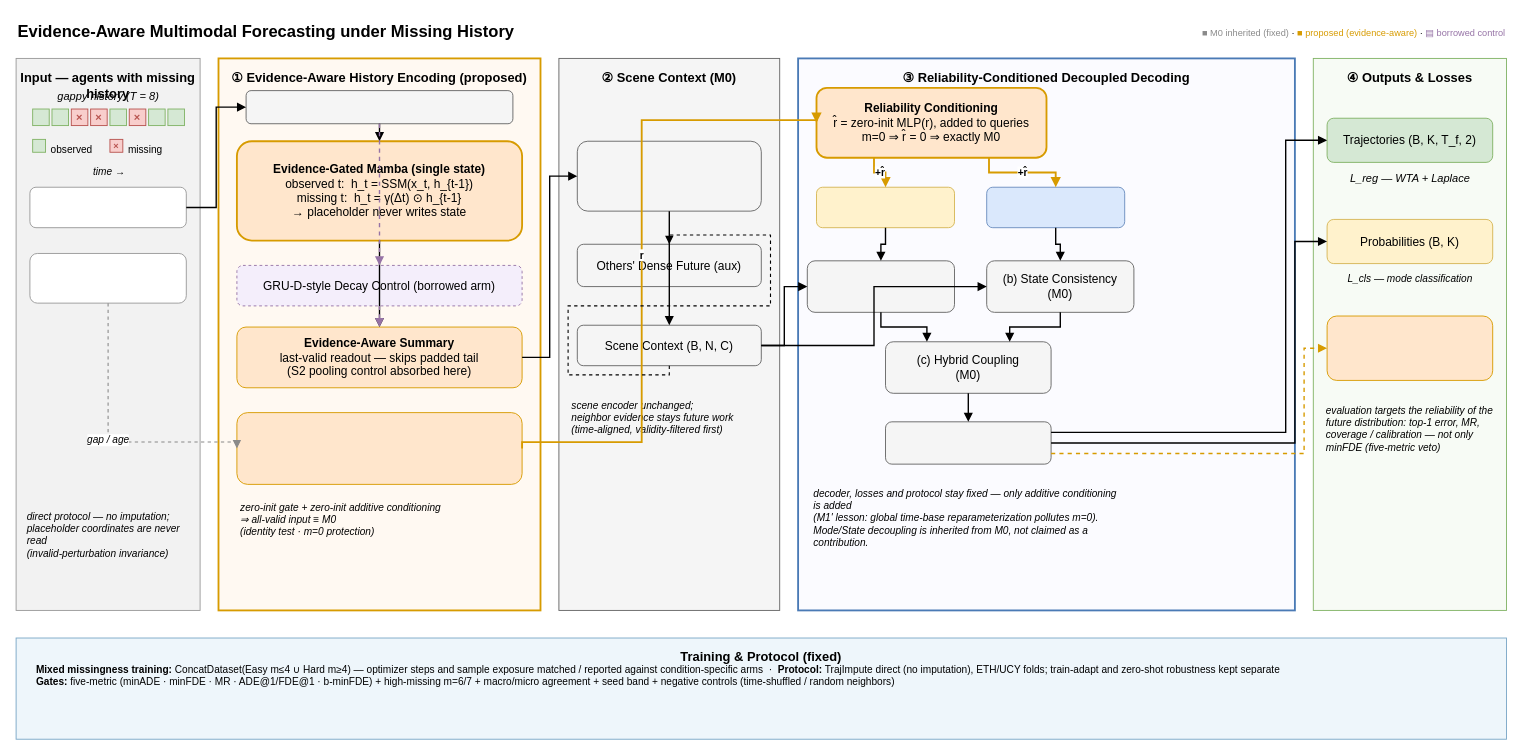
This 1523x755 diagram has some shape labels left out. The centre of each missing label's shape, as x and y in pixels:
"(a) Mode Localization (M0)" goes at point 880,286.
"GMM Heads (M0)" goes at point 968,442.
"Mode Queries (K)" goes at point 885,207.
"Reliability features r valid ratio · max gap observation age · anchor lag" goes at point 379,448.
"Scale σ — predictive uncertainty widens as evidence reliability ↓" goes at point 1409,347.
"Scene Transformer ×5 all-agent cross-attention (padding-masked)" goes at point 668,175.
"State Queries (time)" goes at point 1055,207.
"Traj Embedding MLP (M0)" goes at point 379,107.
"validity & timing m_t, gap Δt, obs age" goes at point 107,278.
"x_t = [Δpos, Δvel, m_t]" goes at point 107,207.
